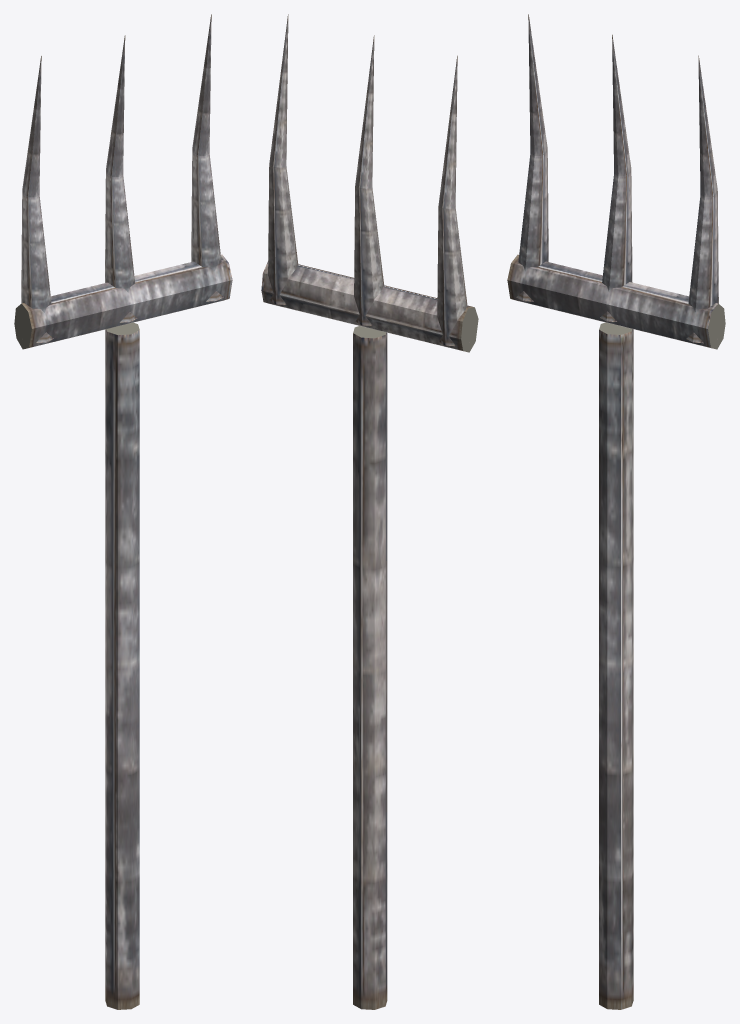
File: pitchfork288_wtf.obj
3 renders of one model, left to right at view 1: azimuth 30°, elevation 25°; view 2: azimuth 150°, elevation 25°; view 3: azimuth 330°, elevation 25°, orthographic.
Parts seen in each view (by area): view 1: group6, group5, group2, group3, group4; view 2: group6, group5, group4, group3, group2; view 3: group6, group5, group4, group3, group2.
Part boxes in pixels (x1,y1,x2,y2): group6: (105, 322, 139, 1009); group5: (14, 254, 232, 349); group2: (191, 14, 223, 301); group3: (105, 35, 137, 322); group4: (21, 56, 53, 342); group6: (353, 326, 387, 1009); group5: (261, 261, 478, 352); group4: (437, 55, 469, 346); group3: (354, 35, 384, 325); group2: (268, 14, 298, 304); group6: (599, 322, 633, 1009); group5: (507, 254, 725, 349); group4: (516, 14, 548, 301); group3: (600, 34, 632, 321); group2: (686, 55, 718, 343).
Bounding box in the file's own units: 143 × 660 × 25.68.
